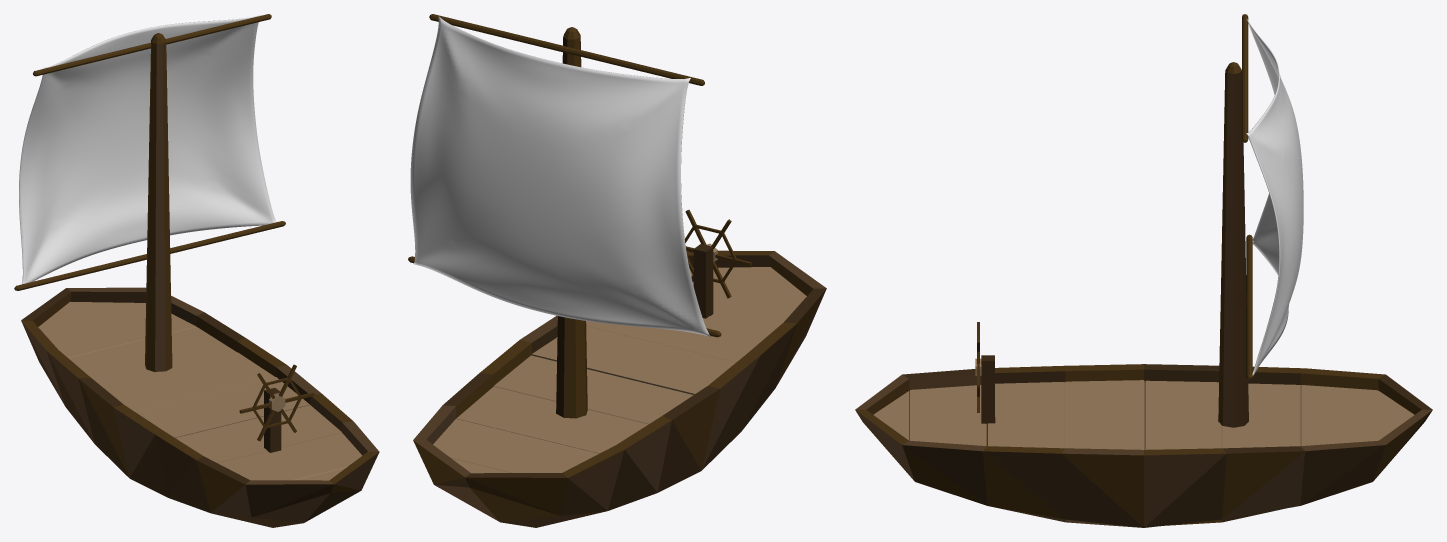
3 views of the same model, side by side, from view 1: azimuth 30°, elevation 25°; view 2: azimuth 150°, elevation 25°; view 3: azimuth 270°, elevation 25° (orthographic). The views are drawn at different scales.
Parts seen in each view (by area): view 1: Cube.008; view 2: Cube.008; view 3: Cube.008.
Part boxes in pixels (x1,y1,x2,y2): Cube.008: [14, 14, 379, 527]; Cube.008: [408, 14, 826, 527]; Cube.008: [855, 14, 1432, 527].
Size of the model in its own units: 737 by 1123 by 1268.
